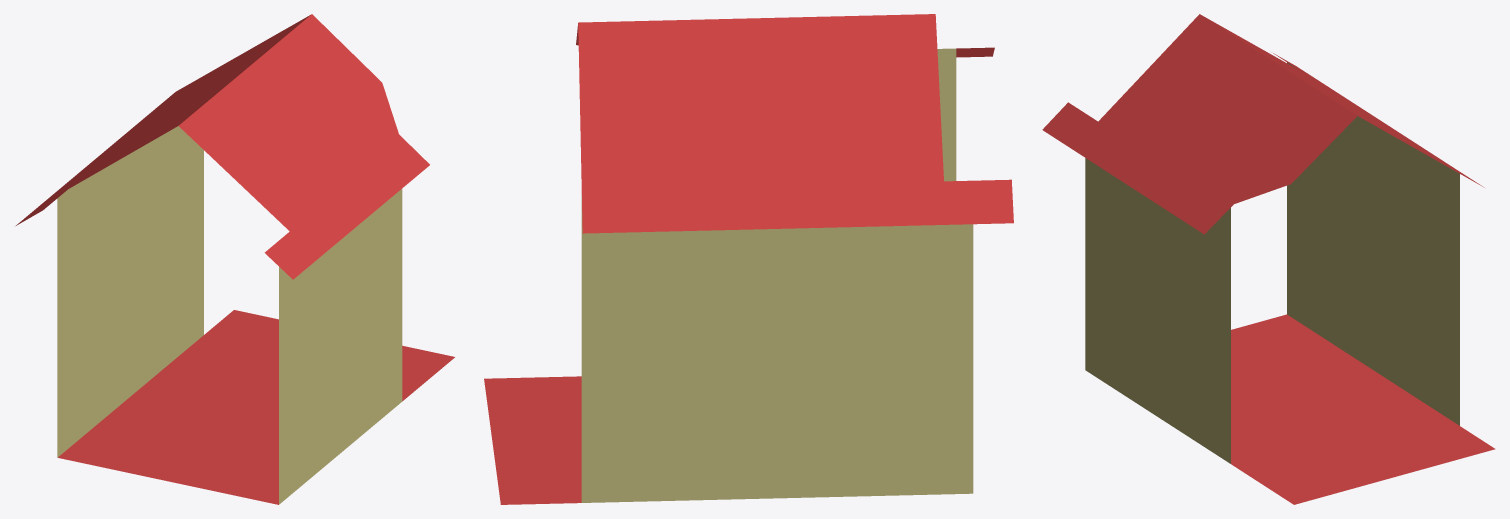
3 views of the same model, side by side, from view 1: azimuth 30°, elevation 25°; view 2: azimuth 150°, elevation 25°; view 3: azimuth 270°, elevation 25° (orthographic). The views are drawn at different scales.
Bounding box in the file's own units: 15.86 × 14.56 × 11.91.
